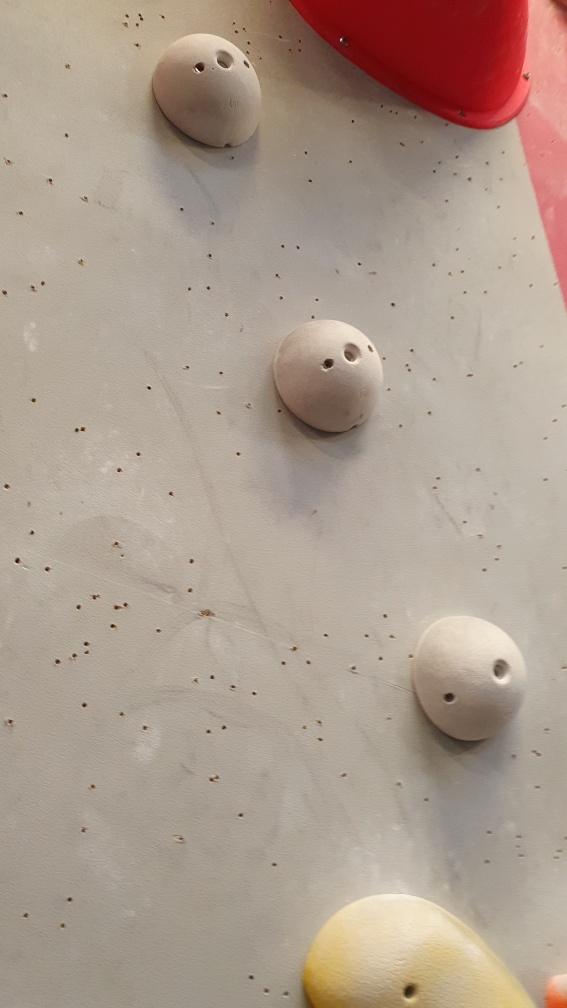Sloper: (408, 612, 530, 747), (273, 318, 384, 435), (151, 36, 262, 150)
